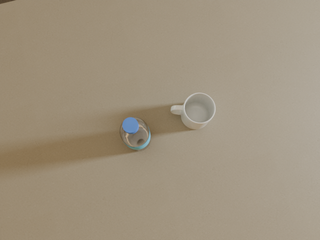bottle: (120, 117, 151, 151)
cup: (171, 93, 215, 129)
